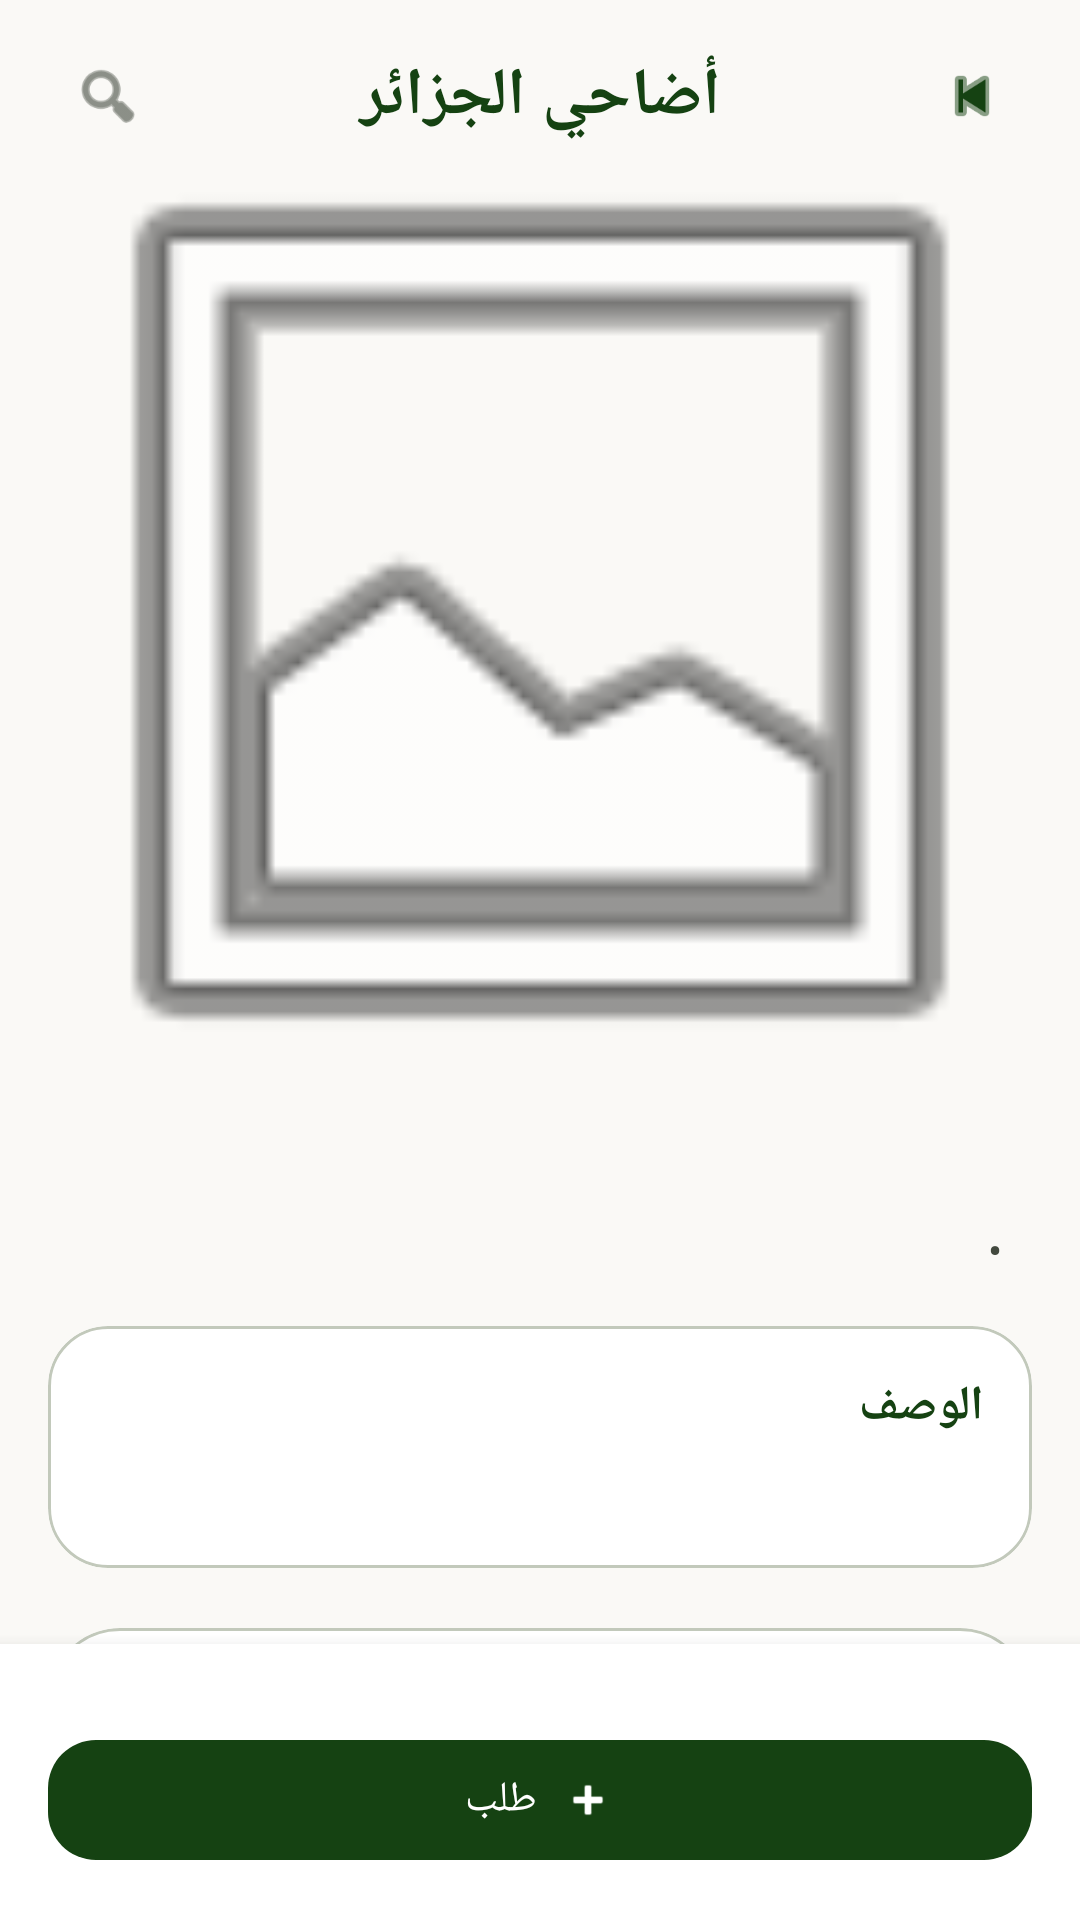

Icon bounding boxes for this 1080 x 1920 phone screenshot, format (x1, y1, x2, y2):
العودة للرئيسية: (955, 76, 989, 116)
بحث: (81, 70, 135, 123)
